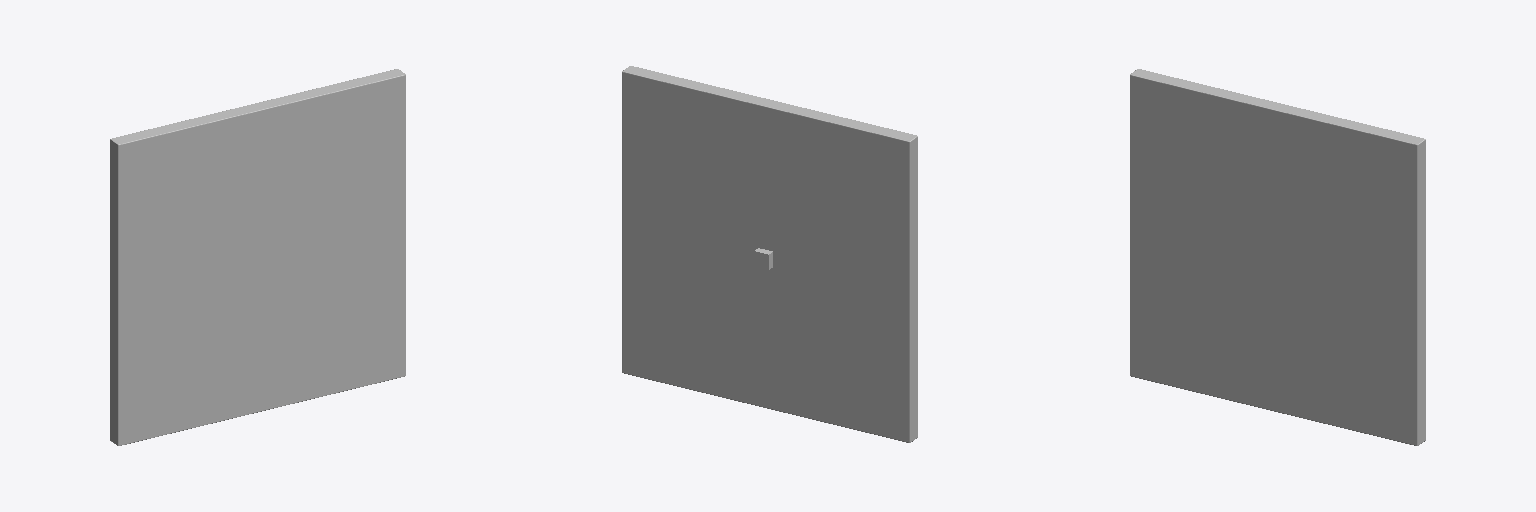
File: ChessBoard.obj
3 renders of one model, left to right at view 1: azimuth 30°, elevation 25°; view 2: azimuth 150°, elevation 25°; view 3: azimuth 330°, elevation 25°, orthographic.
Parts seen in each view (by area): view 1: textureChessBoard; view 2: textureChessBoard; view 3: textureChessBoard.
Boxes of the visible parts, box(x1,y1,x2,y2) form: textureChessBoard: box(110, 69, 405, 445); textureChessBoard: box(622, 66, 917, 442); textureChessBoard: box(1130, 69, 1425, 445).
Bounding box in the file's own units: 39 × 39 × 3.